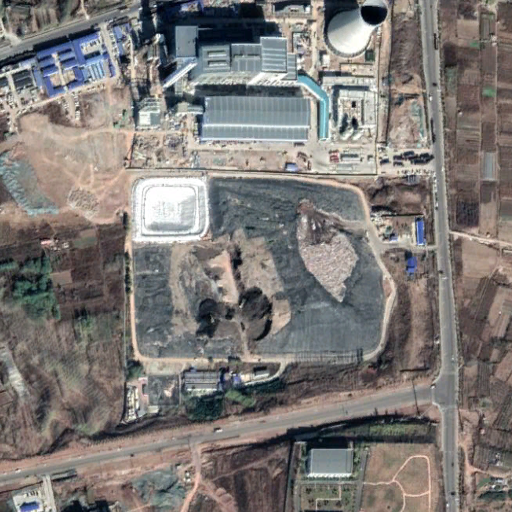lf: (124, 172, 397, 368)
